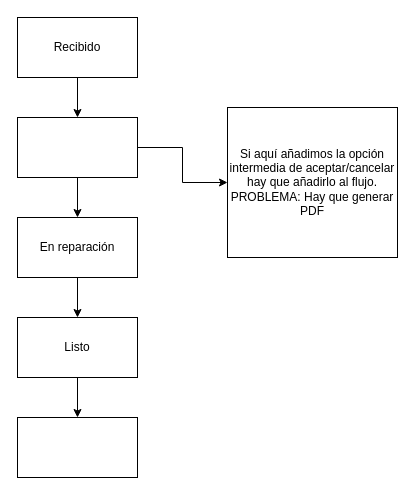
This 415x495 diagram has some shape labels left out. Each missing label, with the centre of its shape:
"En diagnóstico" belongs at (77,147).
"Entregado" belongs at (77,447).
